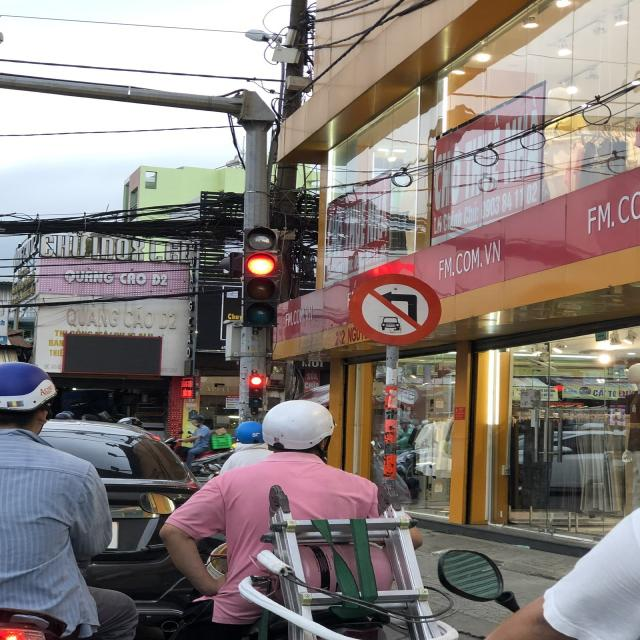Bien bao cam xe o to re trai: (345, 268, 454, 346)
